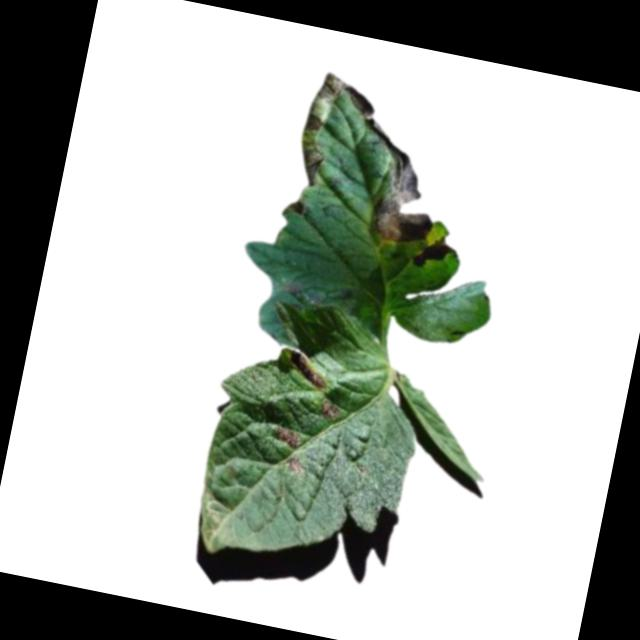Early_blight: (343, 118, 450, 250), (291, 66, 379, 194), (409, 230, 458, 276), (284, 348, 331, 390), (276, 277, 325, 309), (273, 425, 303, 449), (318, 398, 343, 423), (286, 457, 306, 475)
